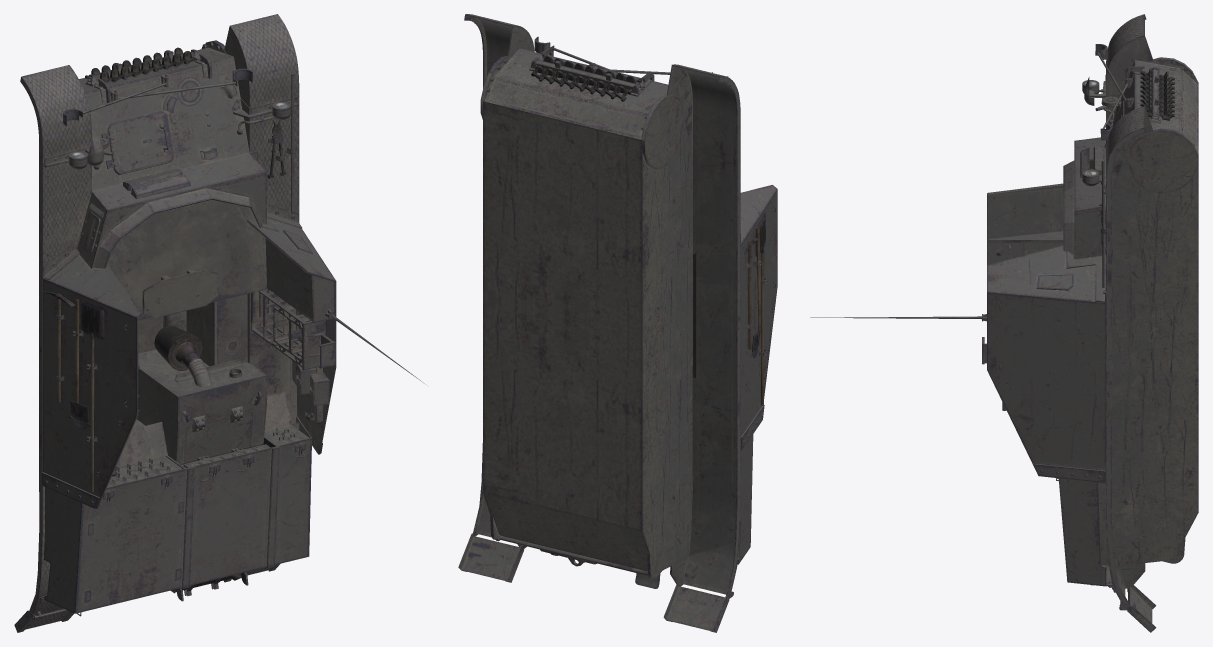
File: Hull.glb
3 views of the same model, side by side, from view 1: azimuth 30°, elevation 25°; view 2: azimuth 150°, elevation 25°; view 3: azimuth 270°, elevation 25° (orthographic). The views are drawn at different scales.
Visible parts, largest first — view 1: set_0_group_0; view 2: set_0_group_0; view 3: set_0_group_0.
Boxes of the visible parts, x1=… form: set_0_group_0: x1=14, y1=14, x2=424, y2=632; set_0_group_0: x1=458, y1=14, x2=777, y2=632; set_0_group_0: x1=810, y1=14, x2=1198, y2=632.
Size of the model in its own units: 2.3 by 4.73 by 3.33.
1 material, 1 textured.
